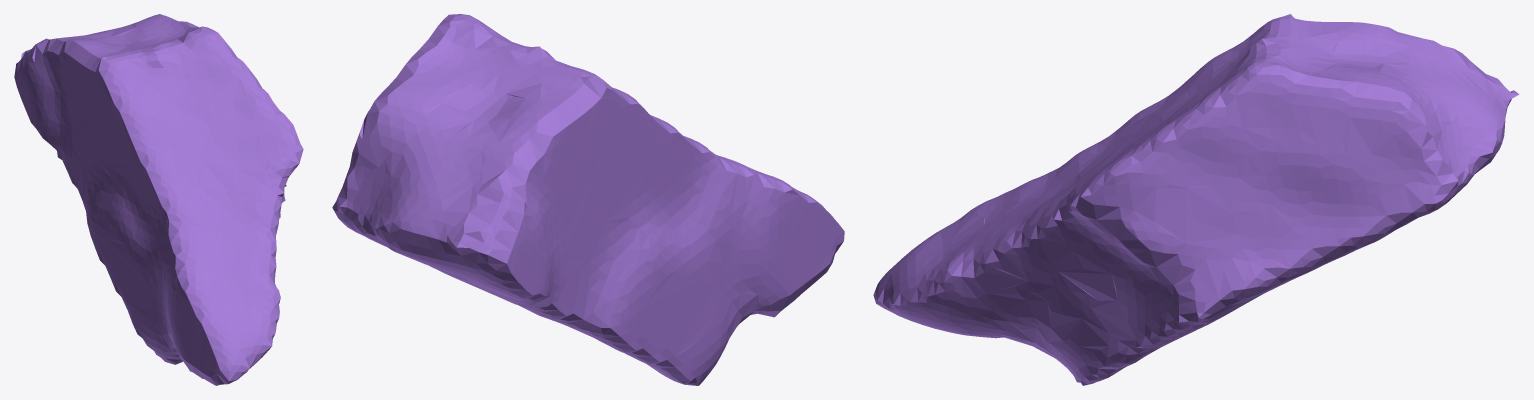
File: Model_10136_LH__Temporal_area_TL__occipital_part_(TLO).obj
The picture shows the model from 3 angles, left to right: view 1: azimuth 30°, elevation 25°; view 2: azimuth 150°, elevation 25°; view 3: azimuth 270°, elevation 25°; orthographic projection. The views are drawn at different scales.
Size of the model in its own units: 1.96 by 2.76 by 4.35.
